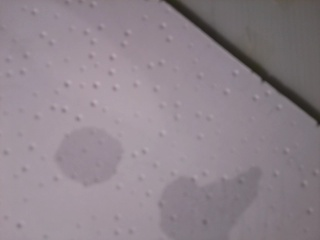Water_detected: (160, 178, 226, 237), (50, 126, 109, 187)
